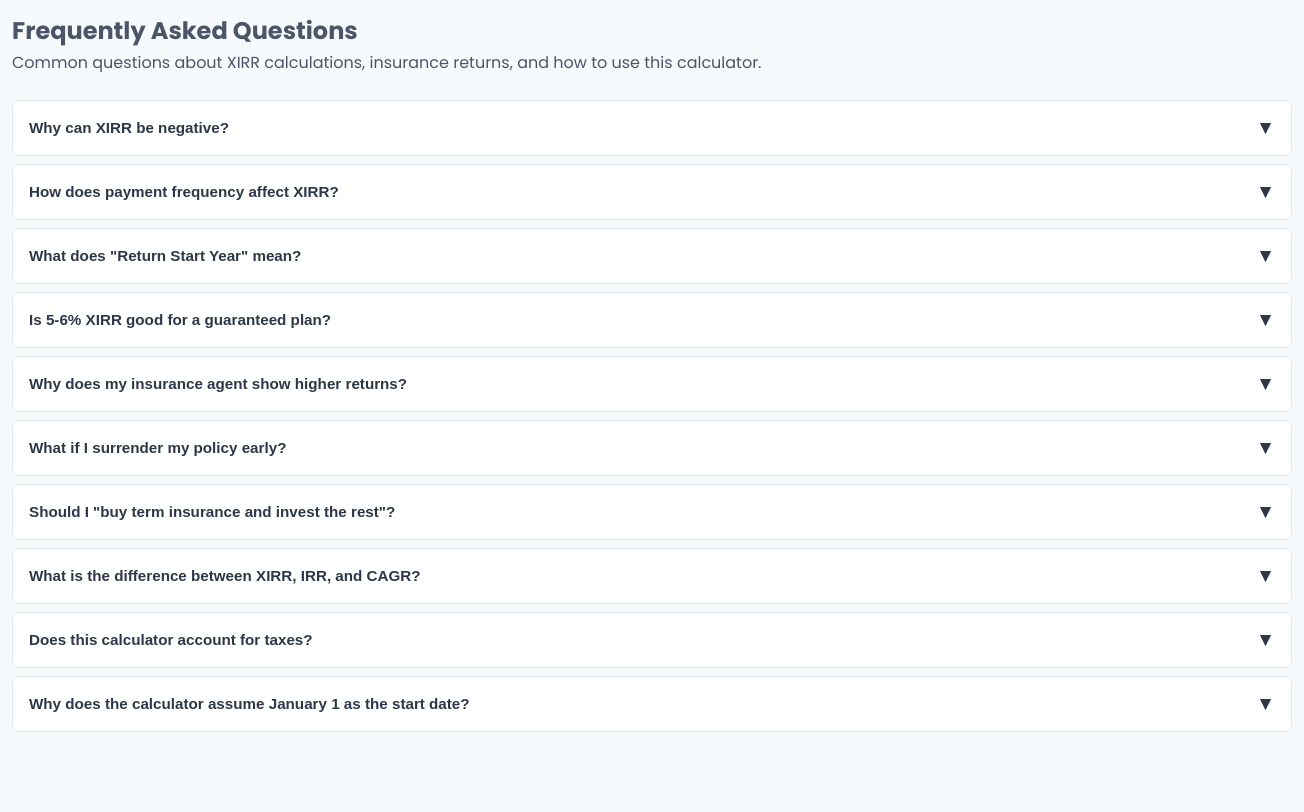
Test case: FAQ Component › expands an answer when question is clicked
Click the text "Why can XIRR be negative?": (129, 128) [29, 120, 229, 136]
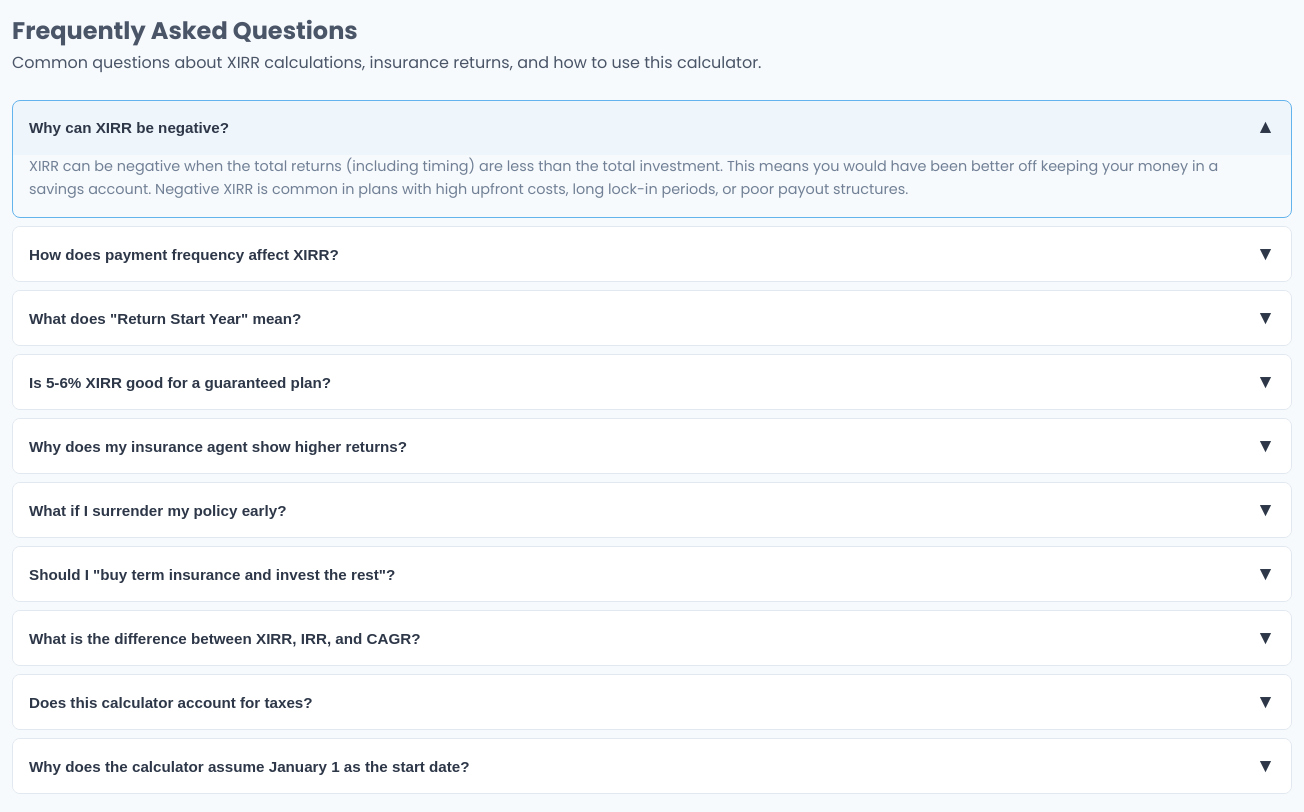
Expected: the text "XIRR can be negative when the total returns" is shown, [29, 156, 1218, 199]
